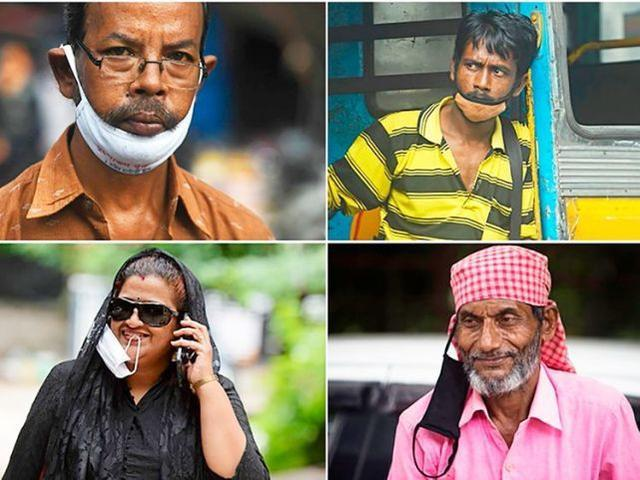no_mask: (456, 298, 545, 392)
